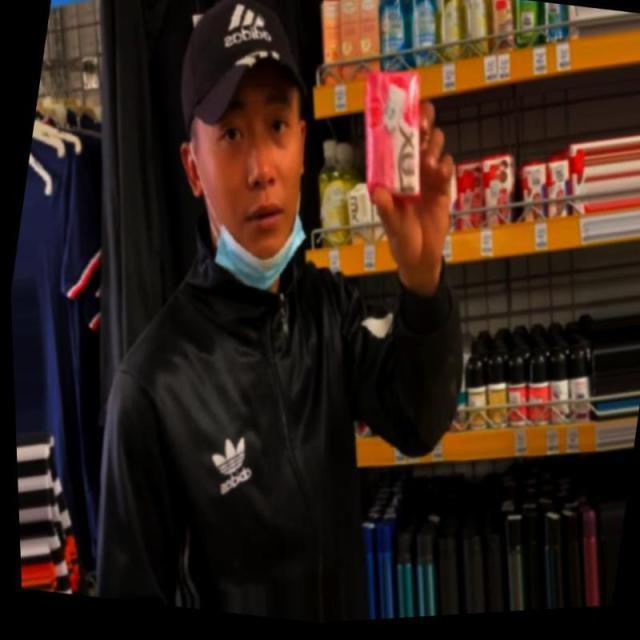hairnet: (182, 121, 328, 300)
